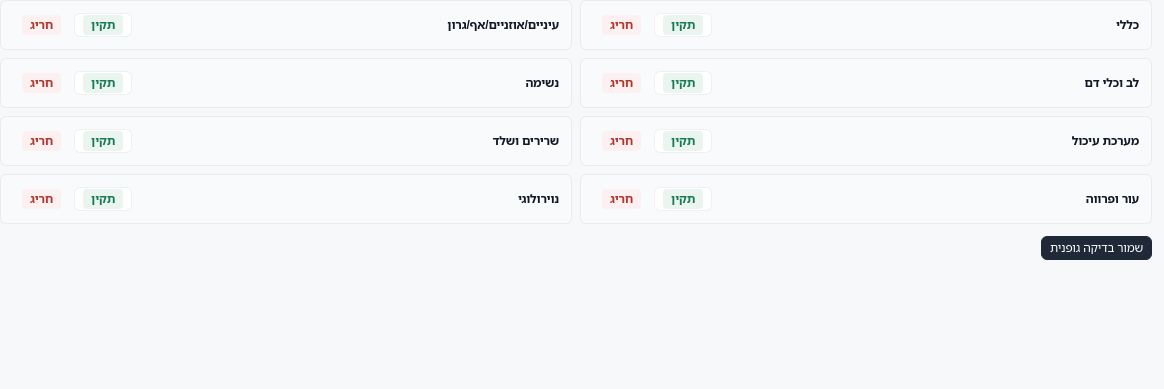
Test: ExamForm › saves a composed note through the same /notes endpoint VisitNotesSection uses
The image size is (1164, 389).
Click the button "חריג" in the row of "לב וכלי דם". click: (622, 83)
box: [593,71,650,95]
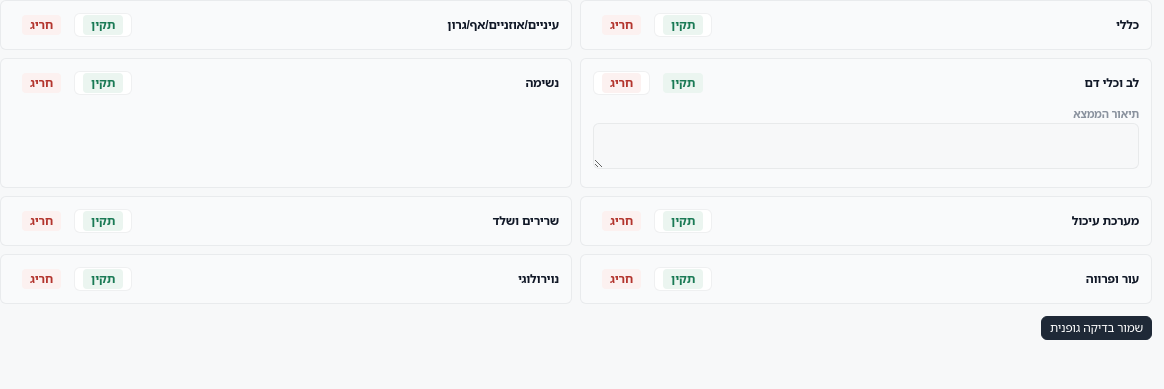
Type "אוושה קלה בהאזנה" into the text box labelled "תיאור הממצא". click: (866, 146)
box: [593,123,1139,169]
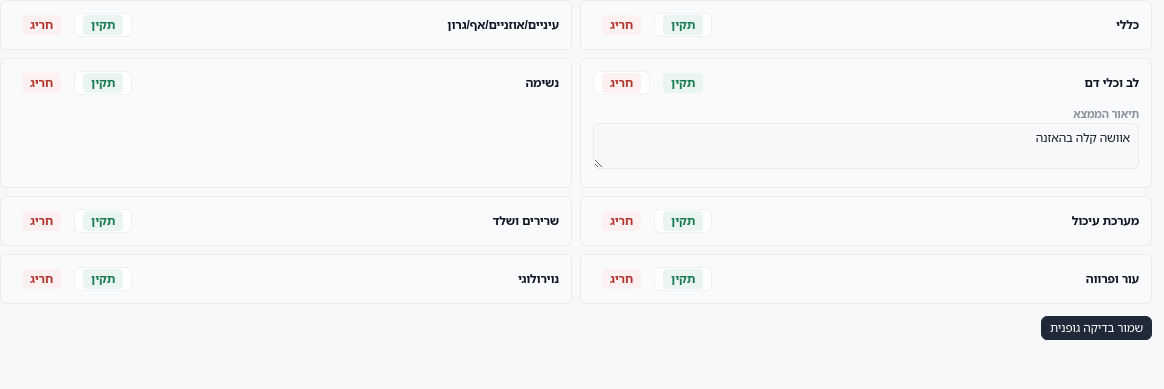
Click the button "שמור בדיקה גופנית". click: (1096, 328)
box: [1041,316,1152,340]
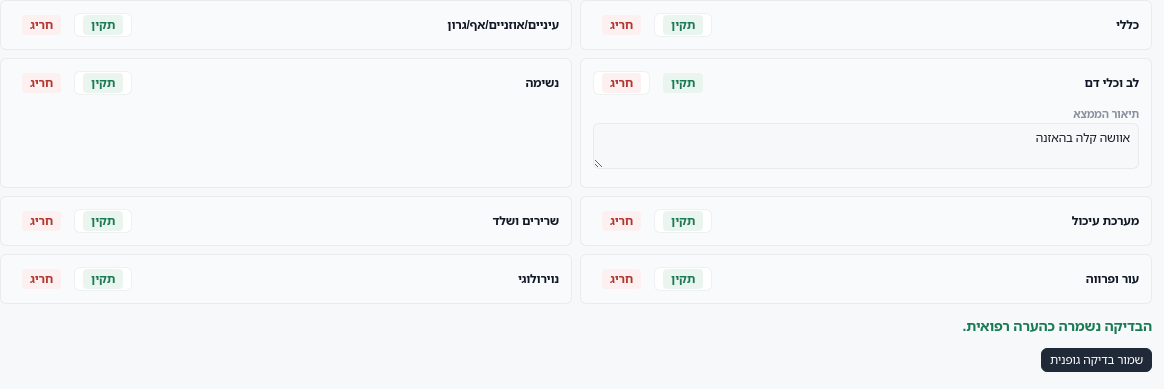
Expected: the text "הבדיקה נשמרה כהערה רפואית." is shown, [962,316,1152,334]
